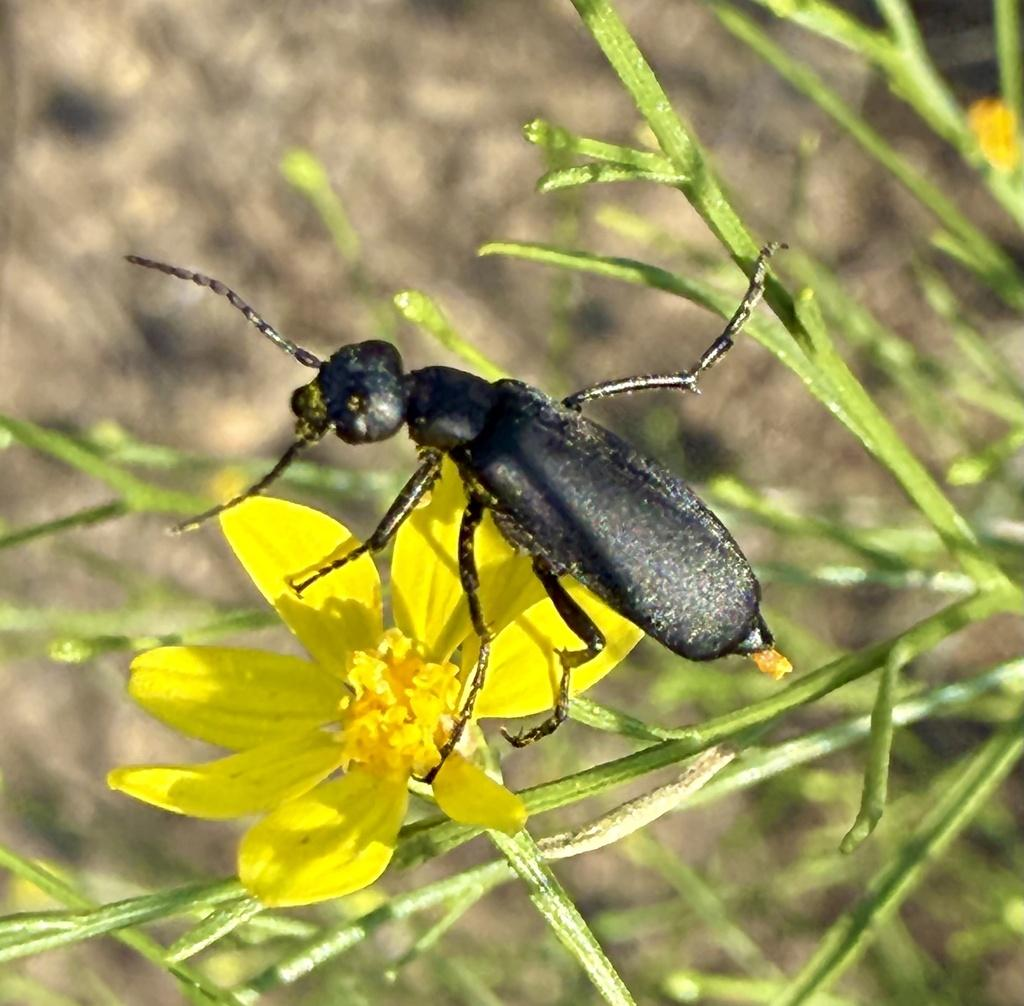blister_beetle: (72, 125, 901, 837)
